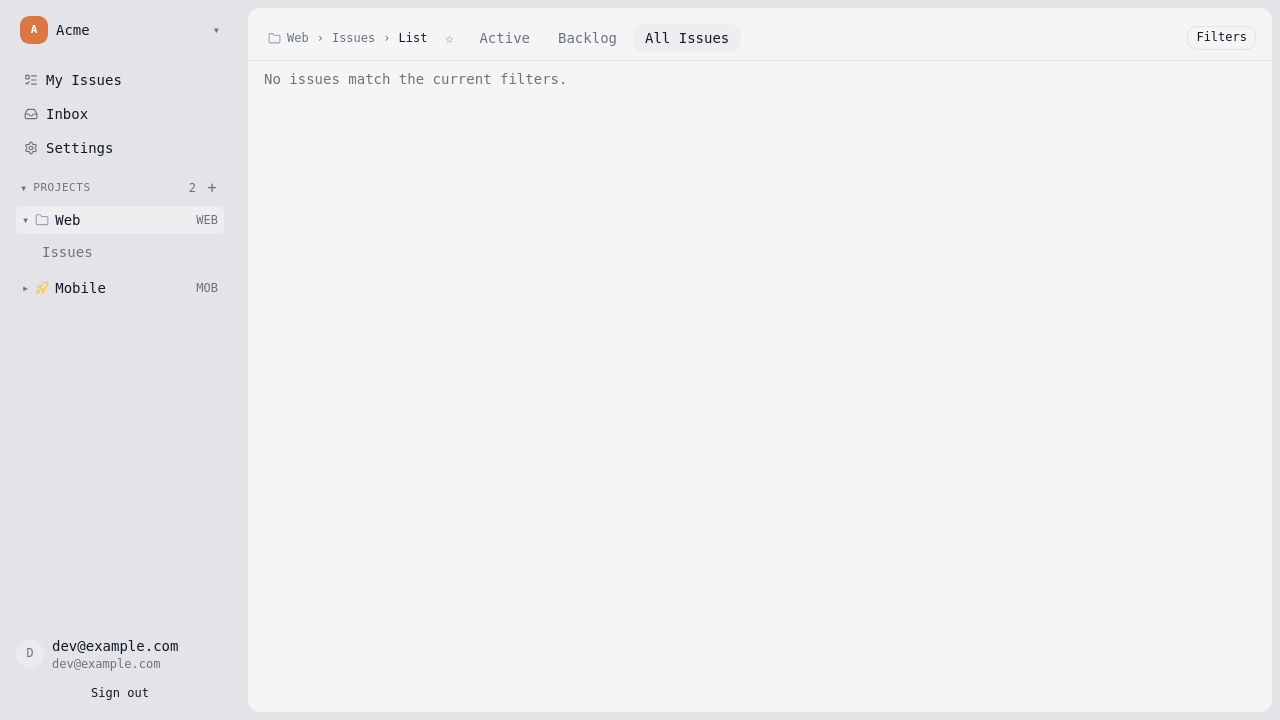
Scenario: rail IA › opens the dropdown and switches workspace; the main column follows
Click the button with test id "rail-workspace-trigger": (120, 30) [16,12,224,48]
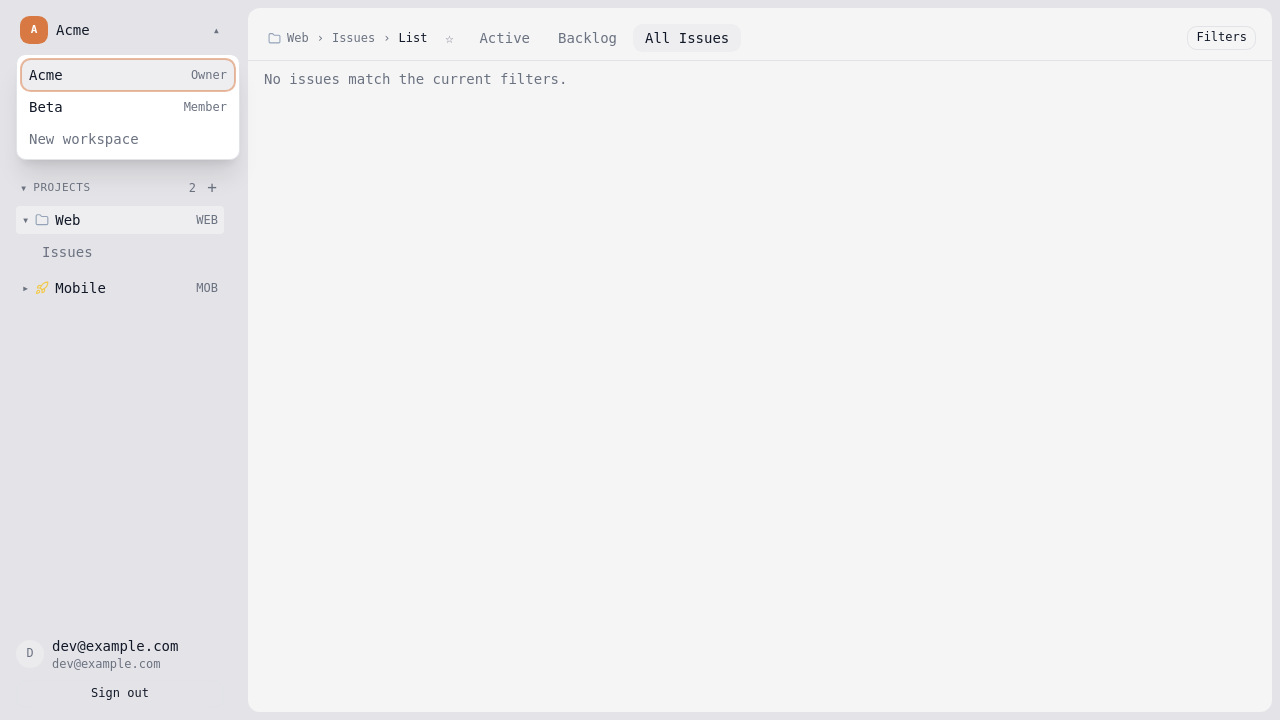
Click the menu item "Beta Member": (128, 107) [21,91,235,123]
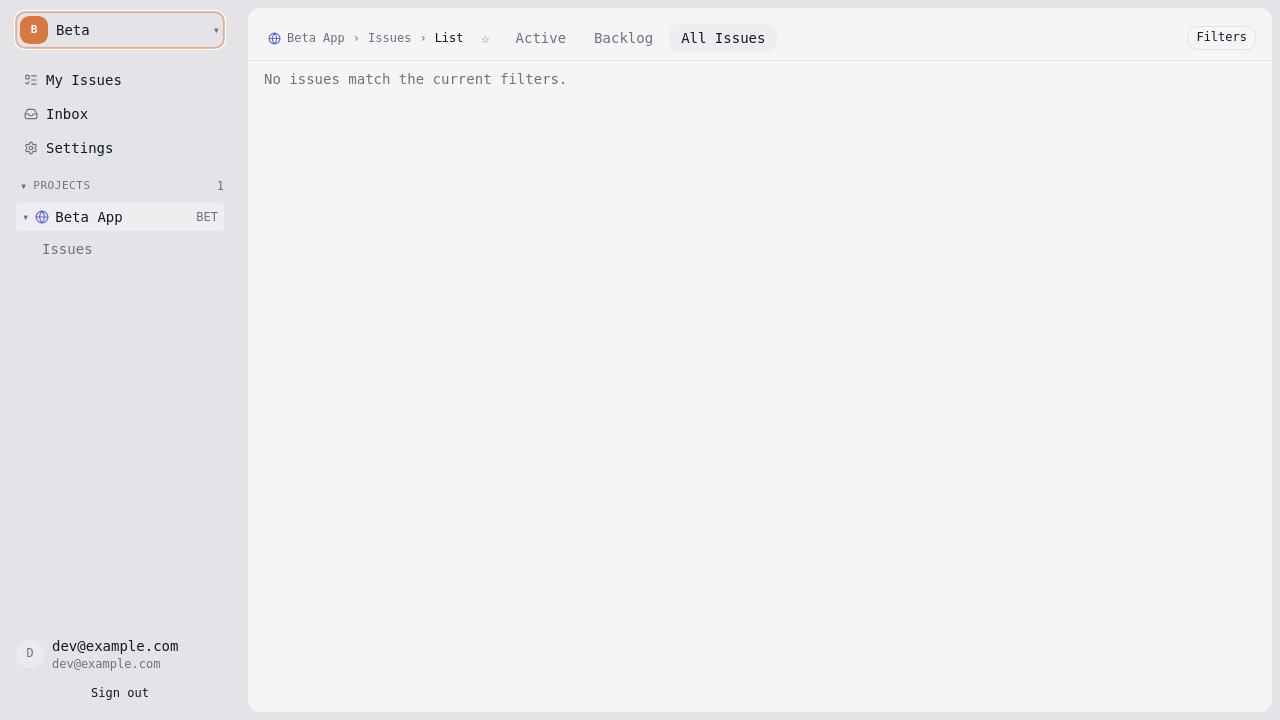
Now the text "Beta" is shown, box [56,20,90,40]
